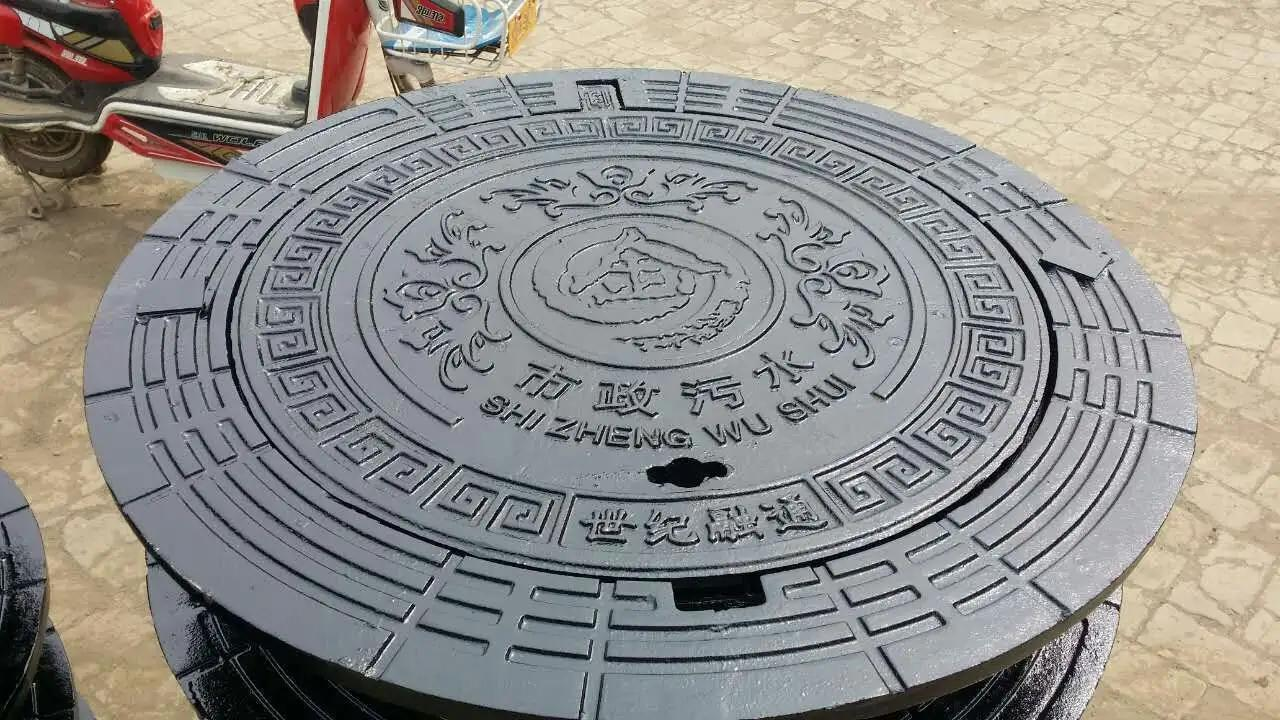wellcover: (128, 54, 1227, 671)
